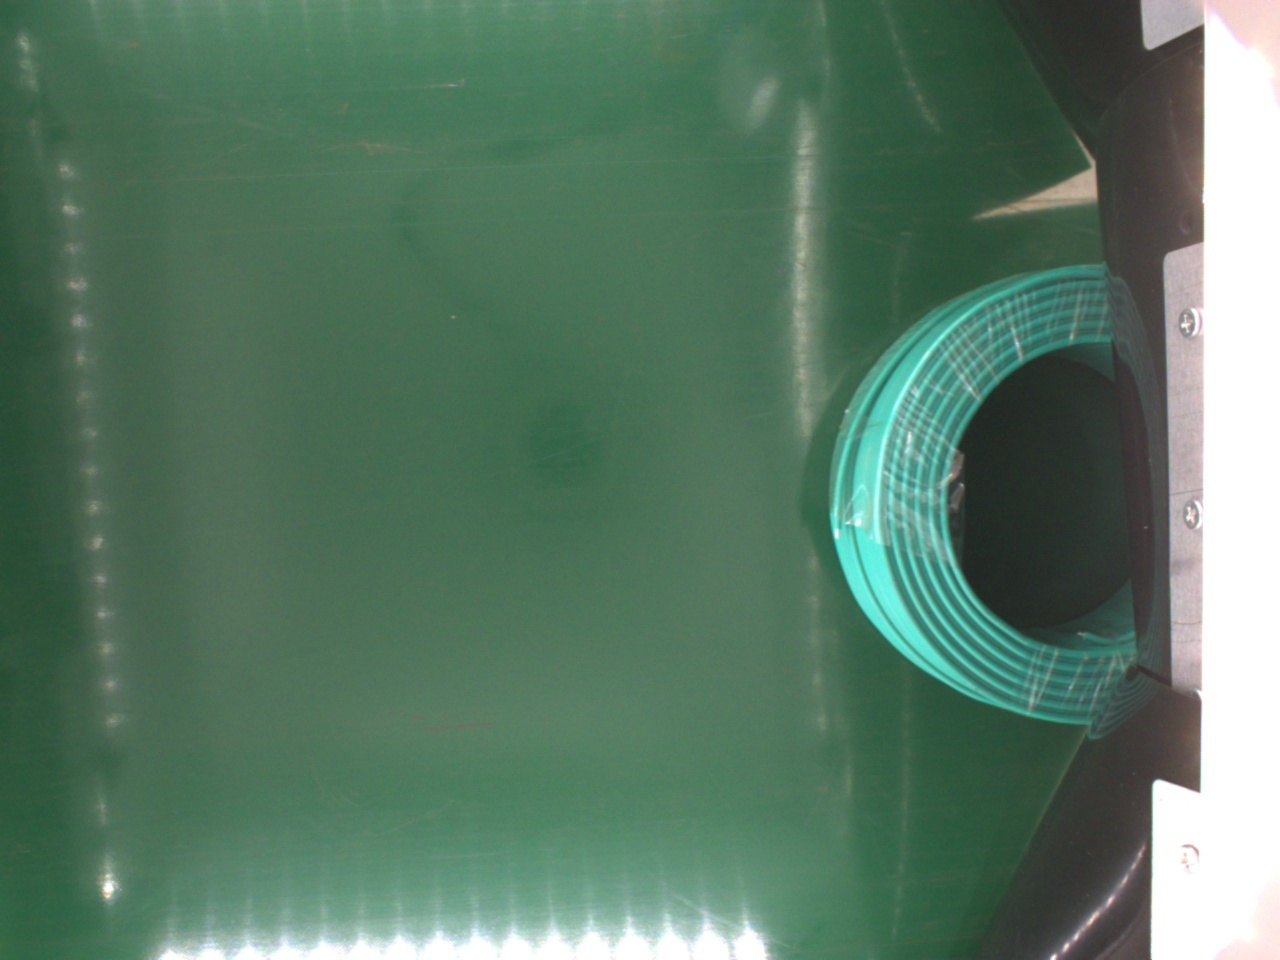green: (833, 263, 1141, 722)
